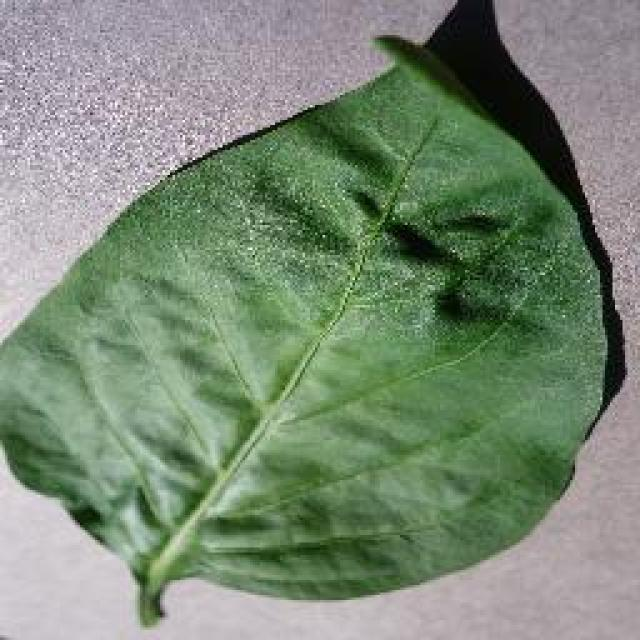Leaf: (34, 12, 618, 610)
